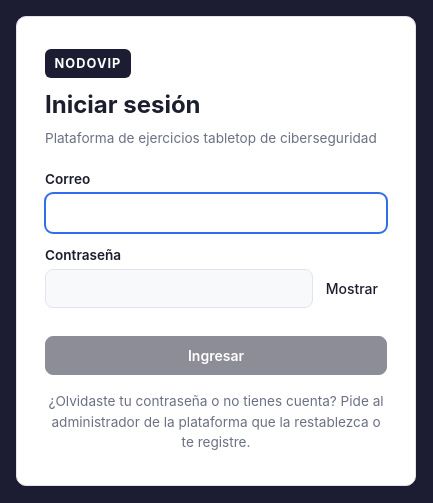
Test: LoginPage › no deja enviar con campos vacíos
Expected: the button "Ingresar" is disabled, [45, 336, 387, 376]
Step 1. Type "ana@example.com" into the field labelled "Correo" → (216, 213), box [45, 193, 387, 232]
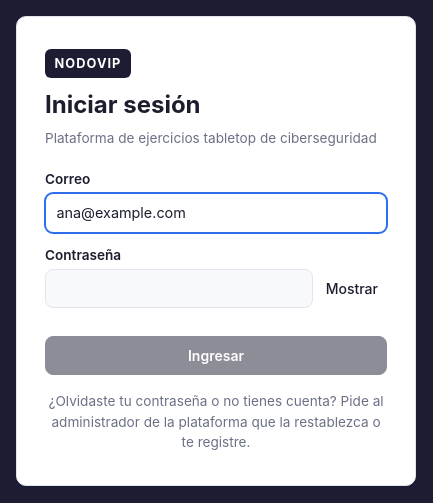
Expected: the button "Ingresar" is disabled, [45, 336, 387, 376]
Step 2. Type "x" into the password field labelled "Contraseña" → (179, 289), box [45, 269, 313, 308]
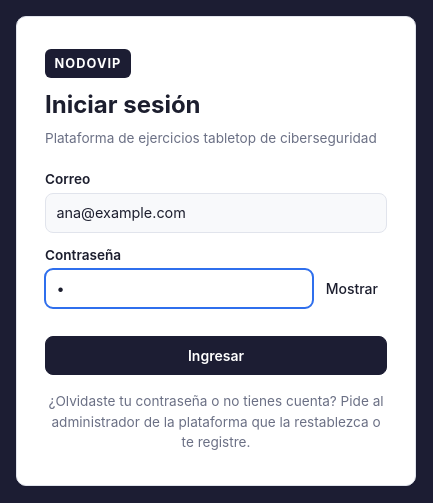
Now the button "Ingresar" is enabled, box [45, 336, 387, 376]
